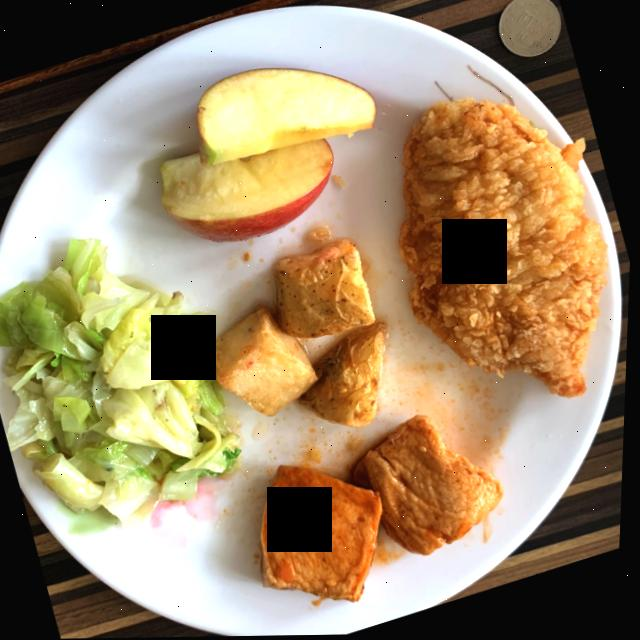apple -sliced-: (161, 68, 376, 242)
cabbage: (0, 238, 244, 530)
coin: (497, 0, 560, 59)
creamy tofu: (264, 416, 506, 603)
fried chicken cutlet: (400, 99, 608, 399)
fried potato: (214, 239, 389, 428)
